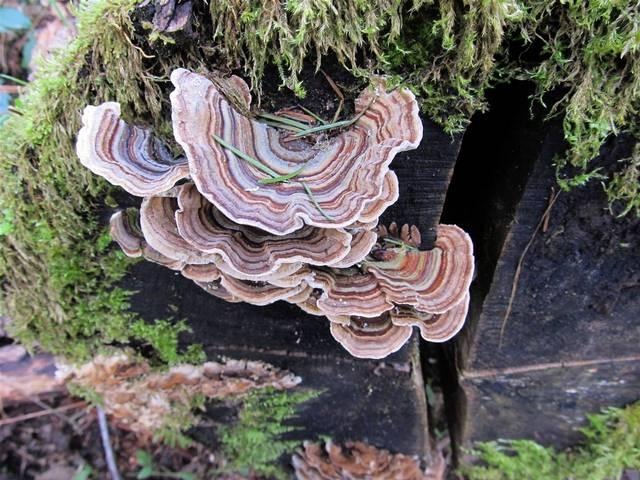Non-edible Mushroom: (74, 64, 476, 360)
